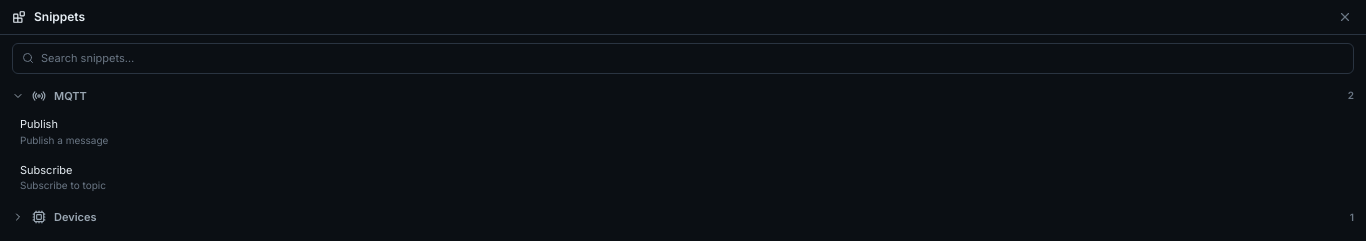
Scenario: SnippetPicker › shows no-results message when search has no matches
Expected: the text "Publish" is shown, [20, 117, 58, 131]
In the field with placeholder "Search snippets…": [683, 58] box [12, 43, 1354, 74], type "zzznomatch"
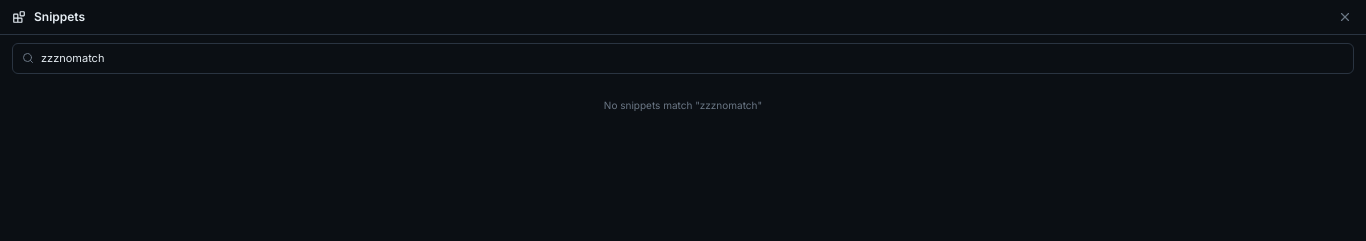
Expected: the text "No snippets match \"zzznomatch\"" is shown, [604, 98, 762, 110]
